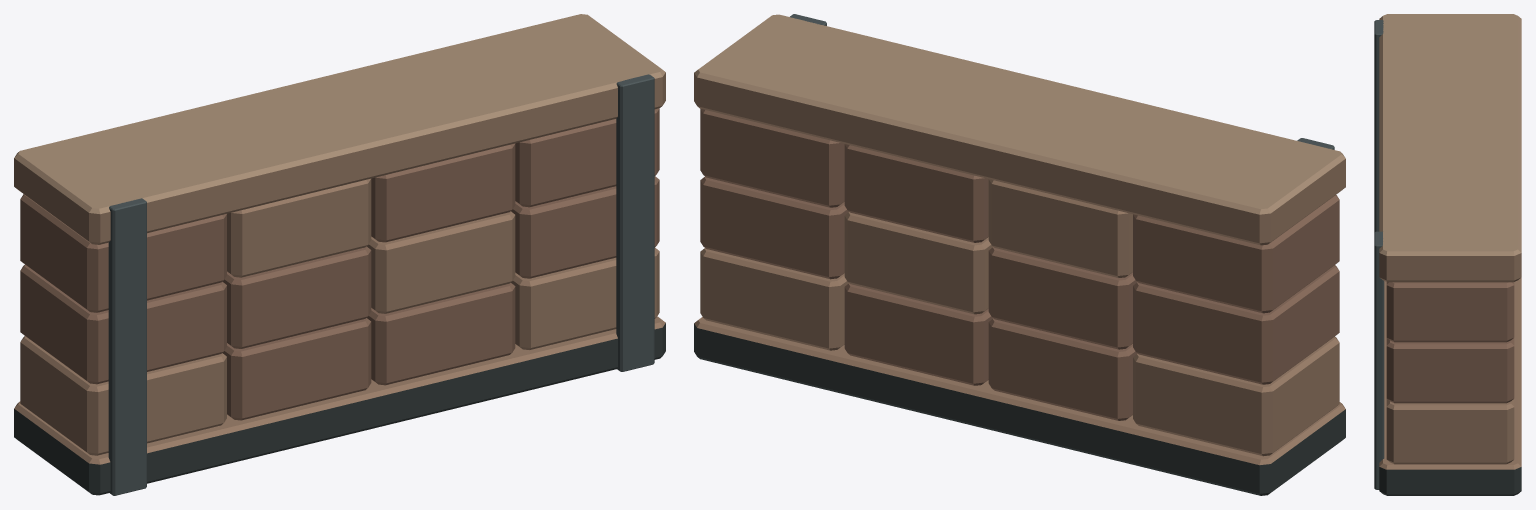
File: wall-straight.glb
The picture shows the model from 3 angles, left to right: view 1: azimuth 30°, elevation 25°; view 2: azimuth 150°, elevation 25°; view 3: azimuth 270°, elevation 25°; orthographic projection. The views are drawn at different scales.
Parts seen in each view (by area): view 1: wall-straight__body; view 2: wall-straight__body; view 3: wall-straight__body.
Boxes of the visible parts, x1,y1,x2,y2 form: wall-straight__body: (14,14,665,495); wall-straight__body: (694,14,1345,495); wall-straight__body: (1374,14,1521,495).
Size of the model in its own units: 2 by 0.95 by 0.5175.
